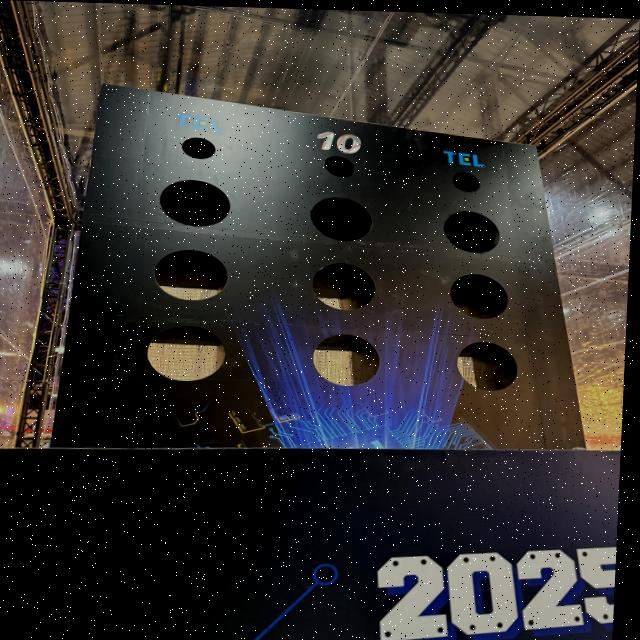hole: (147, 324, 227, 381), (154, 249, 230, 301), (312, 333, 381, 387), (159, 179, 232, 227), (312, 262, 377, 312), (456, 342, 519, 391), (309, 196, 374, 242), (449, 273, 509, 320), (444, 210, 502, 253), (181, 137, 216, 159), (324, 155, 355, 177), (453, 172, 480, 192)
